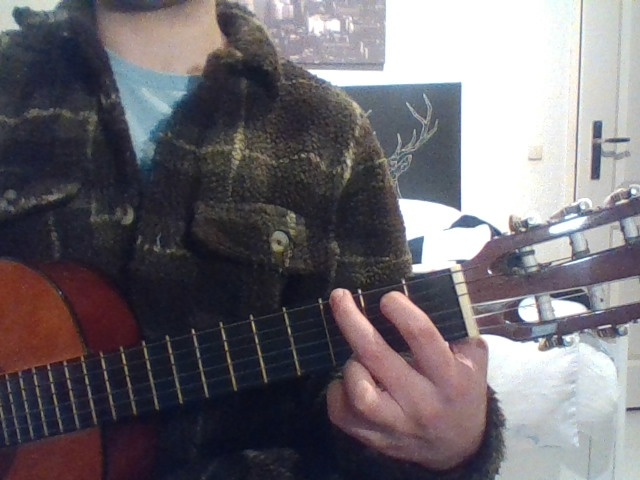G: (301, 269, 529, 480)
